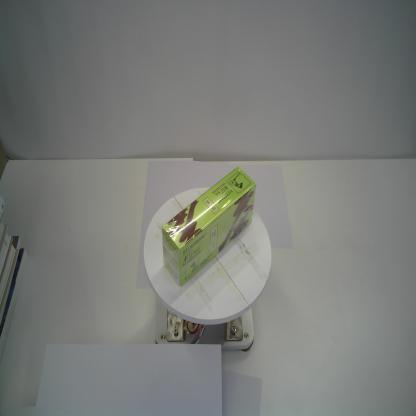Instant Drink: (160, 165, 257, 287)
